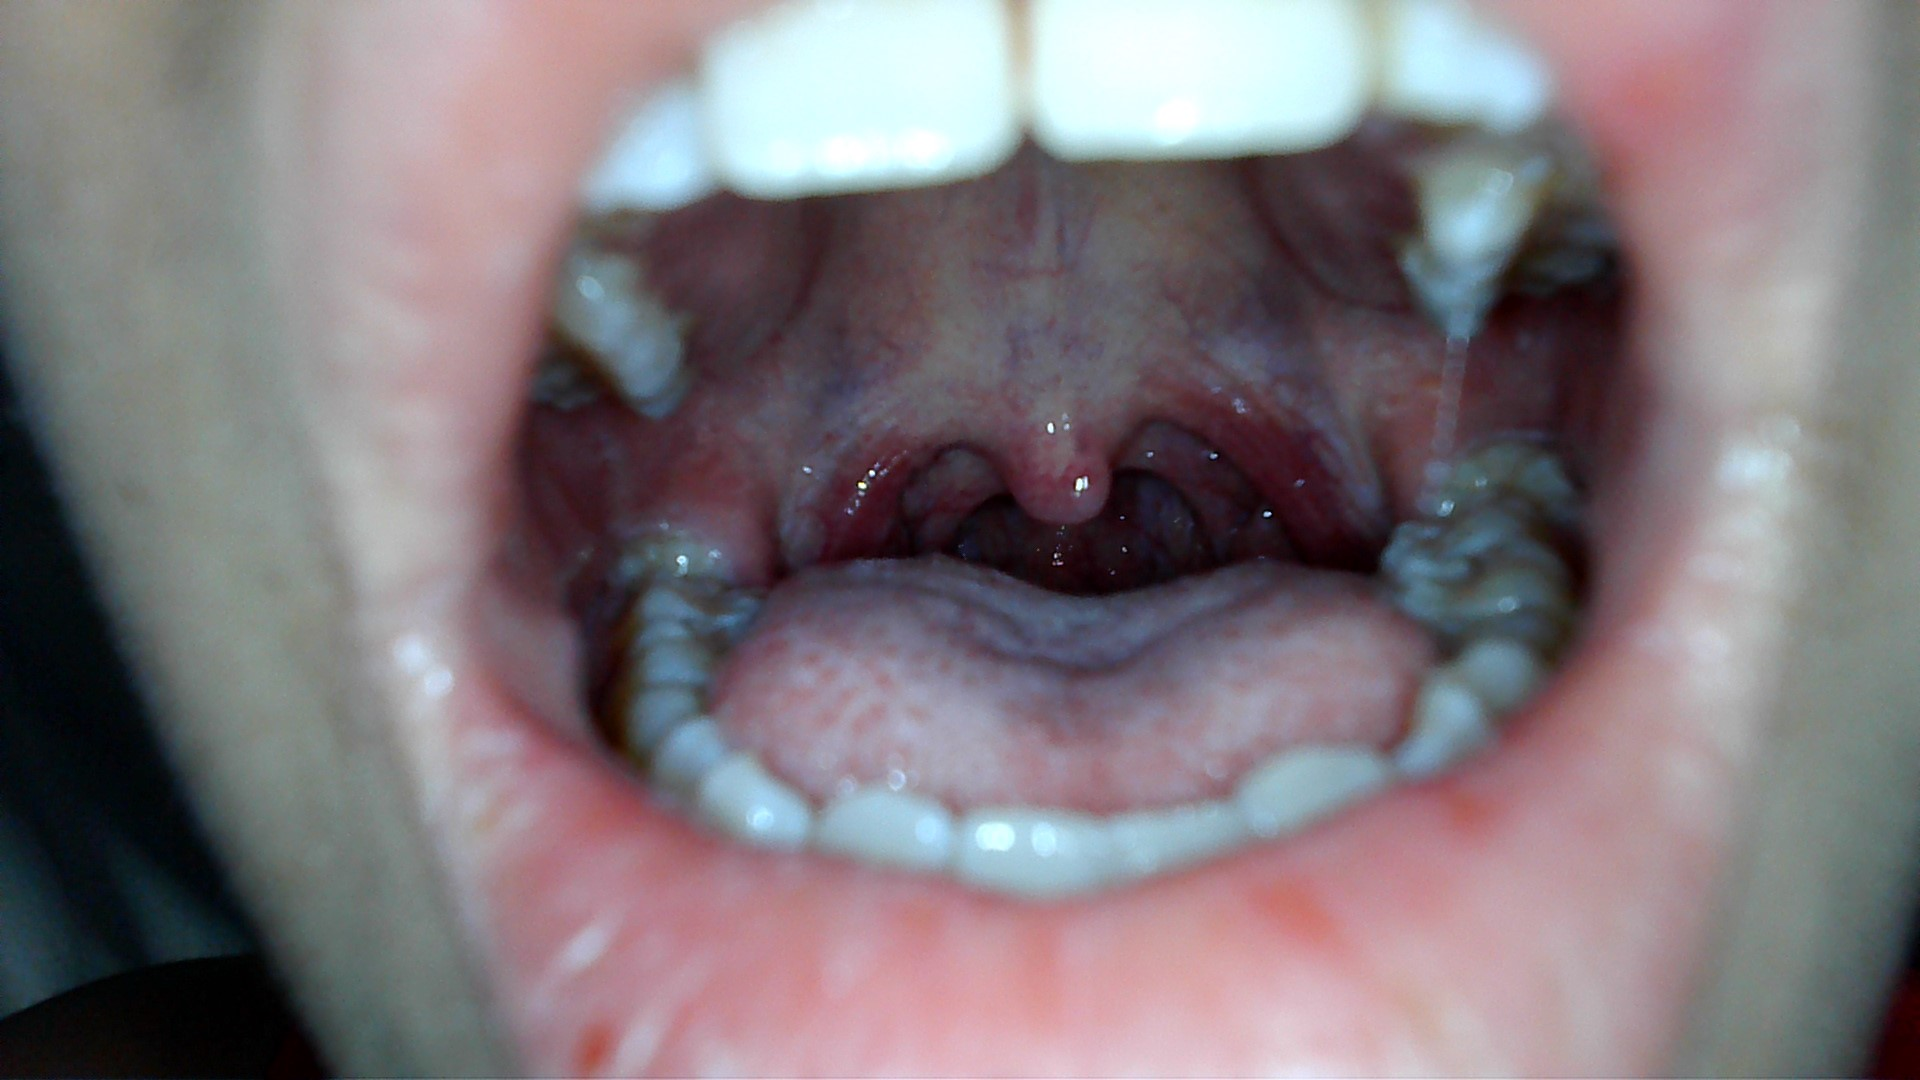throat: (794, 376, 957, 556), (1207, 344, 1350, 549)
